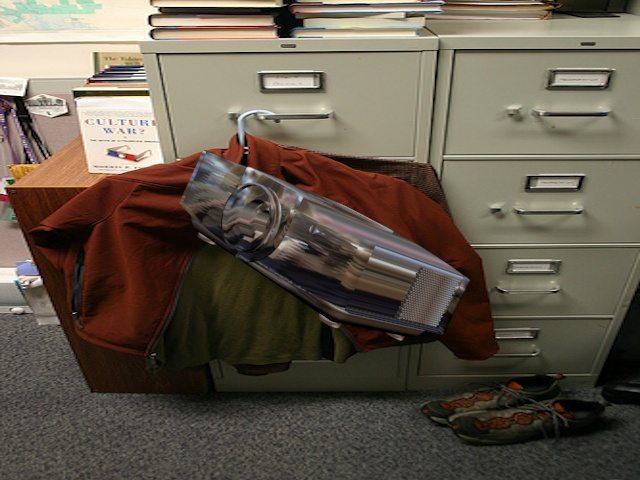projector: (176, 145, 480, 352)
